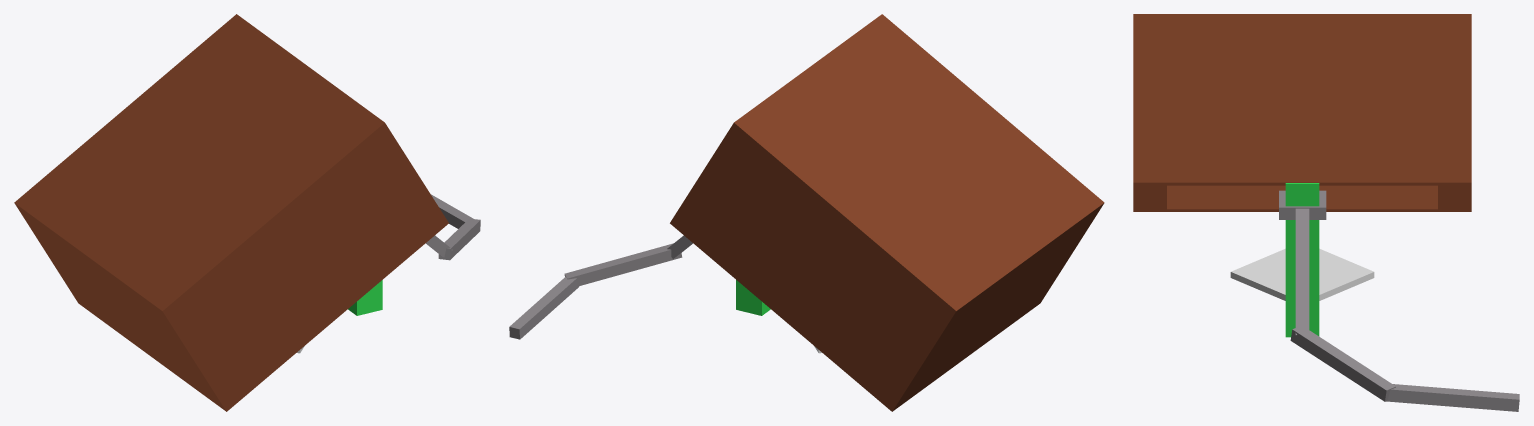
Rendered from IncertitudeTrap.fbx.
3 renders of one model, left to right at view 1: azimuth 30°, elevation 25°; view 2: azimuth 150°, elevation 25°; view 3: azimuth 270°, elevation 25°, orthographic. The views are drawn at different scales.
Parts seen in each view (by area): view 1: Cube.001, Cube.013, Cube.006; view 2: Cube.001, Cube.013, Cube.006; view 3: Cube.001, Cube.013, Cube.006, Cube.014.
Part boxes in pixels (box(x1,y1,x2,y2)): Cube.001: box(14, 14, 448, 411); Cube.013: box(425, 194, 480, 260); Cube.006: box(348, 280, 382, 315); Cube.001: box(670, 14, 1104, 411); Cube.013: box(509, 235, 692, 339); Cube.006: box(736, 280, 770, 315); Cube.001: box(1133, 14, 1471, 211); Cube.013: box(1279, 190, 1519, 411); Cube.006: box(1285, 183, 1319, 337); Cube.014: box(1230, 248, 1374, 300).
Bounding box in the file's own units: 167 × 93.68 × 114.
